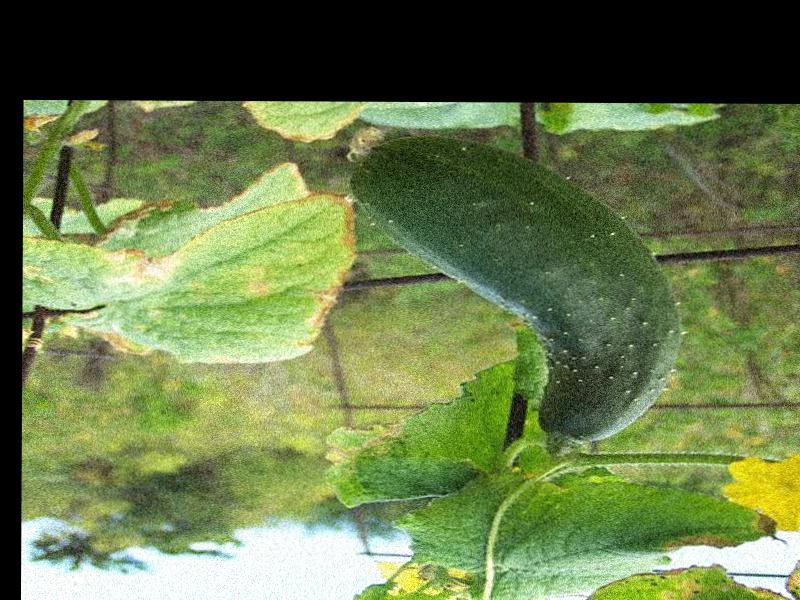Cucumber: (344, 134, 678, 446)
